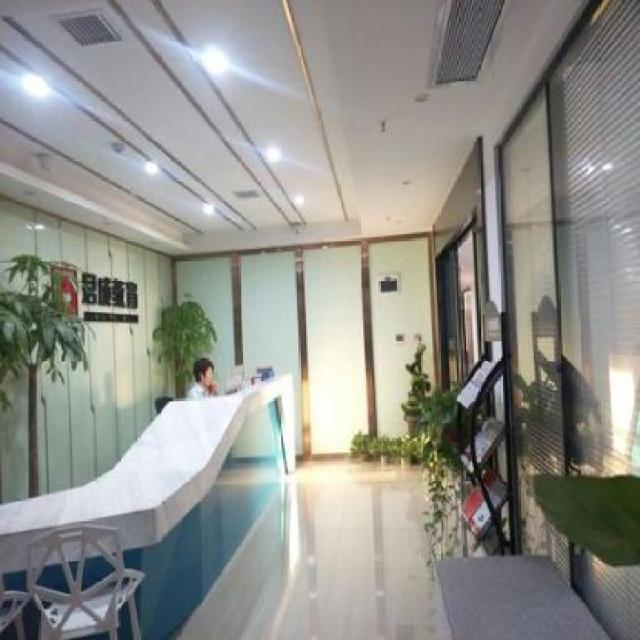frontdesk: (0, 360, 305, 640)
